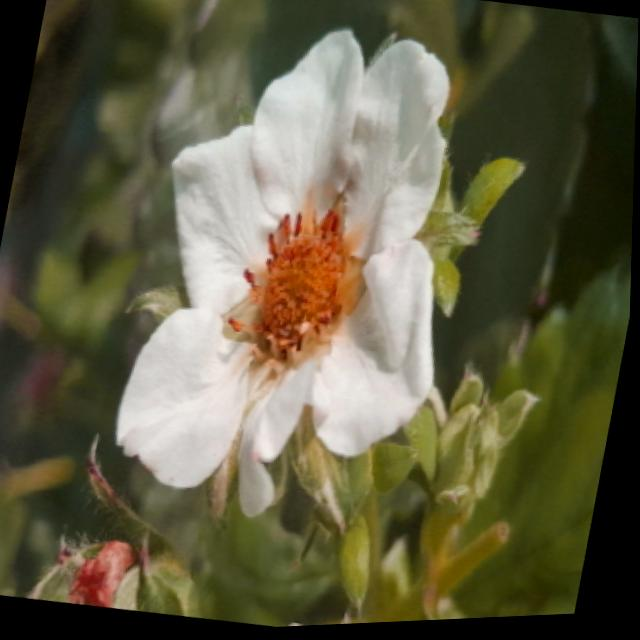Blossom Blight: (217, 193, 369, 393)
